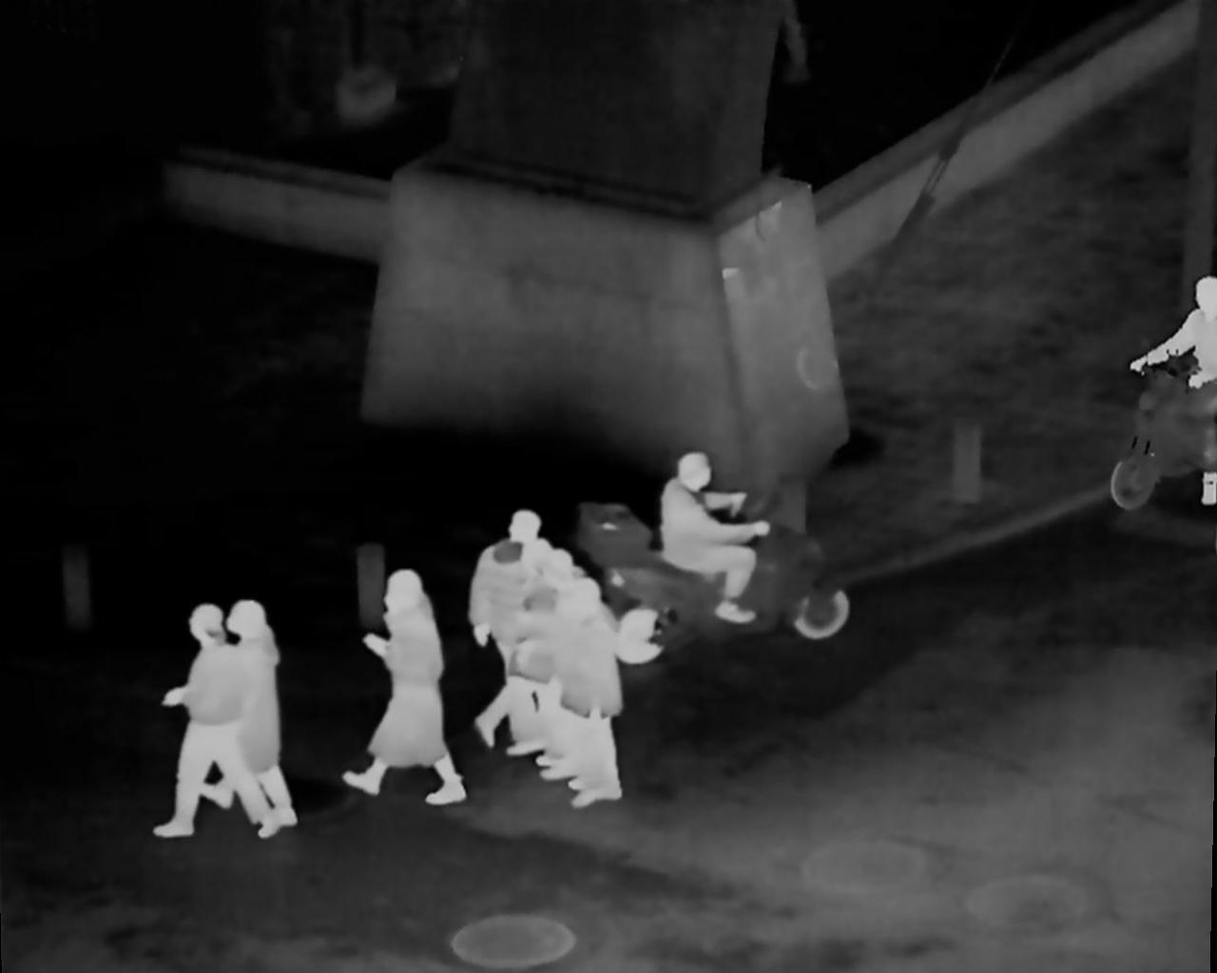person: (344, 563, 462, 820), (158, 601, 280, 838), (645, 448, 791, 626), (202, 593, 305, 835), (466, 500, 546, 743), (1131, 283, 1217, 498), (553, 576, 631, 805), (540, 544, 599, 782), (513, 539, 565, 755)
